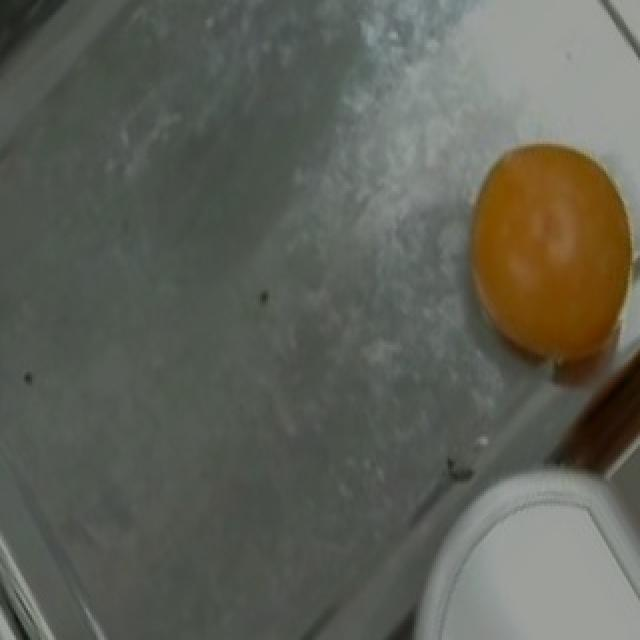Fruit: (438, 122, 640, 390), (416, 471, 640, 640)
